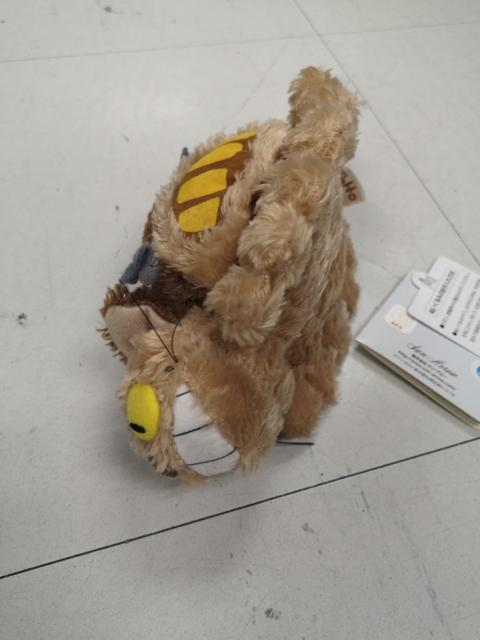nekobus: (89, 55, 373, 508)
